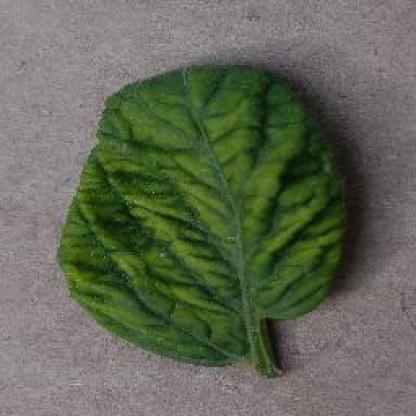bad leaf: (102, 88, 333, 348)
